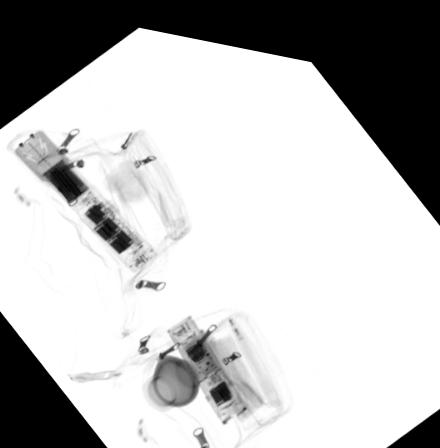Baton: (10, 124, 161, 269), (165, 305, 249, 419)
